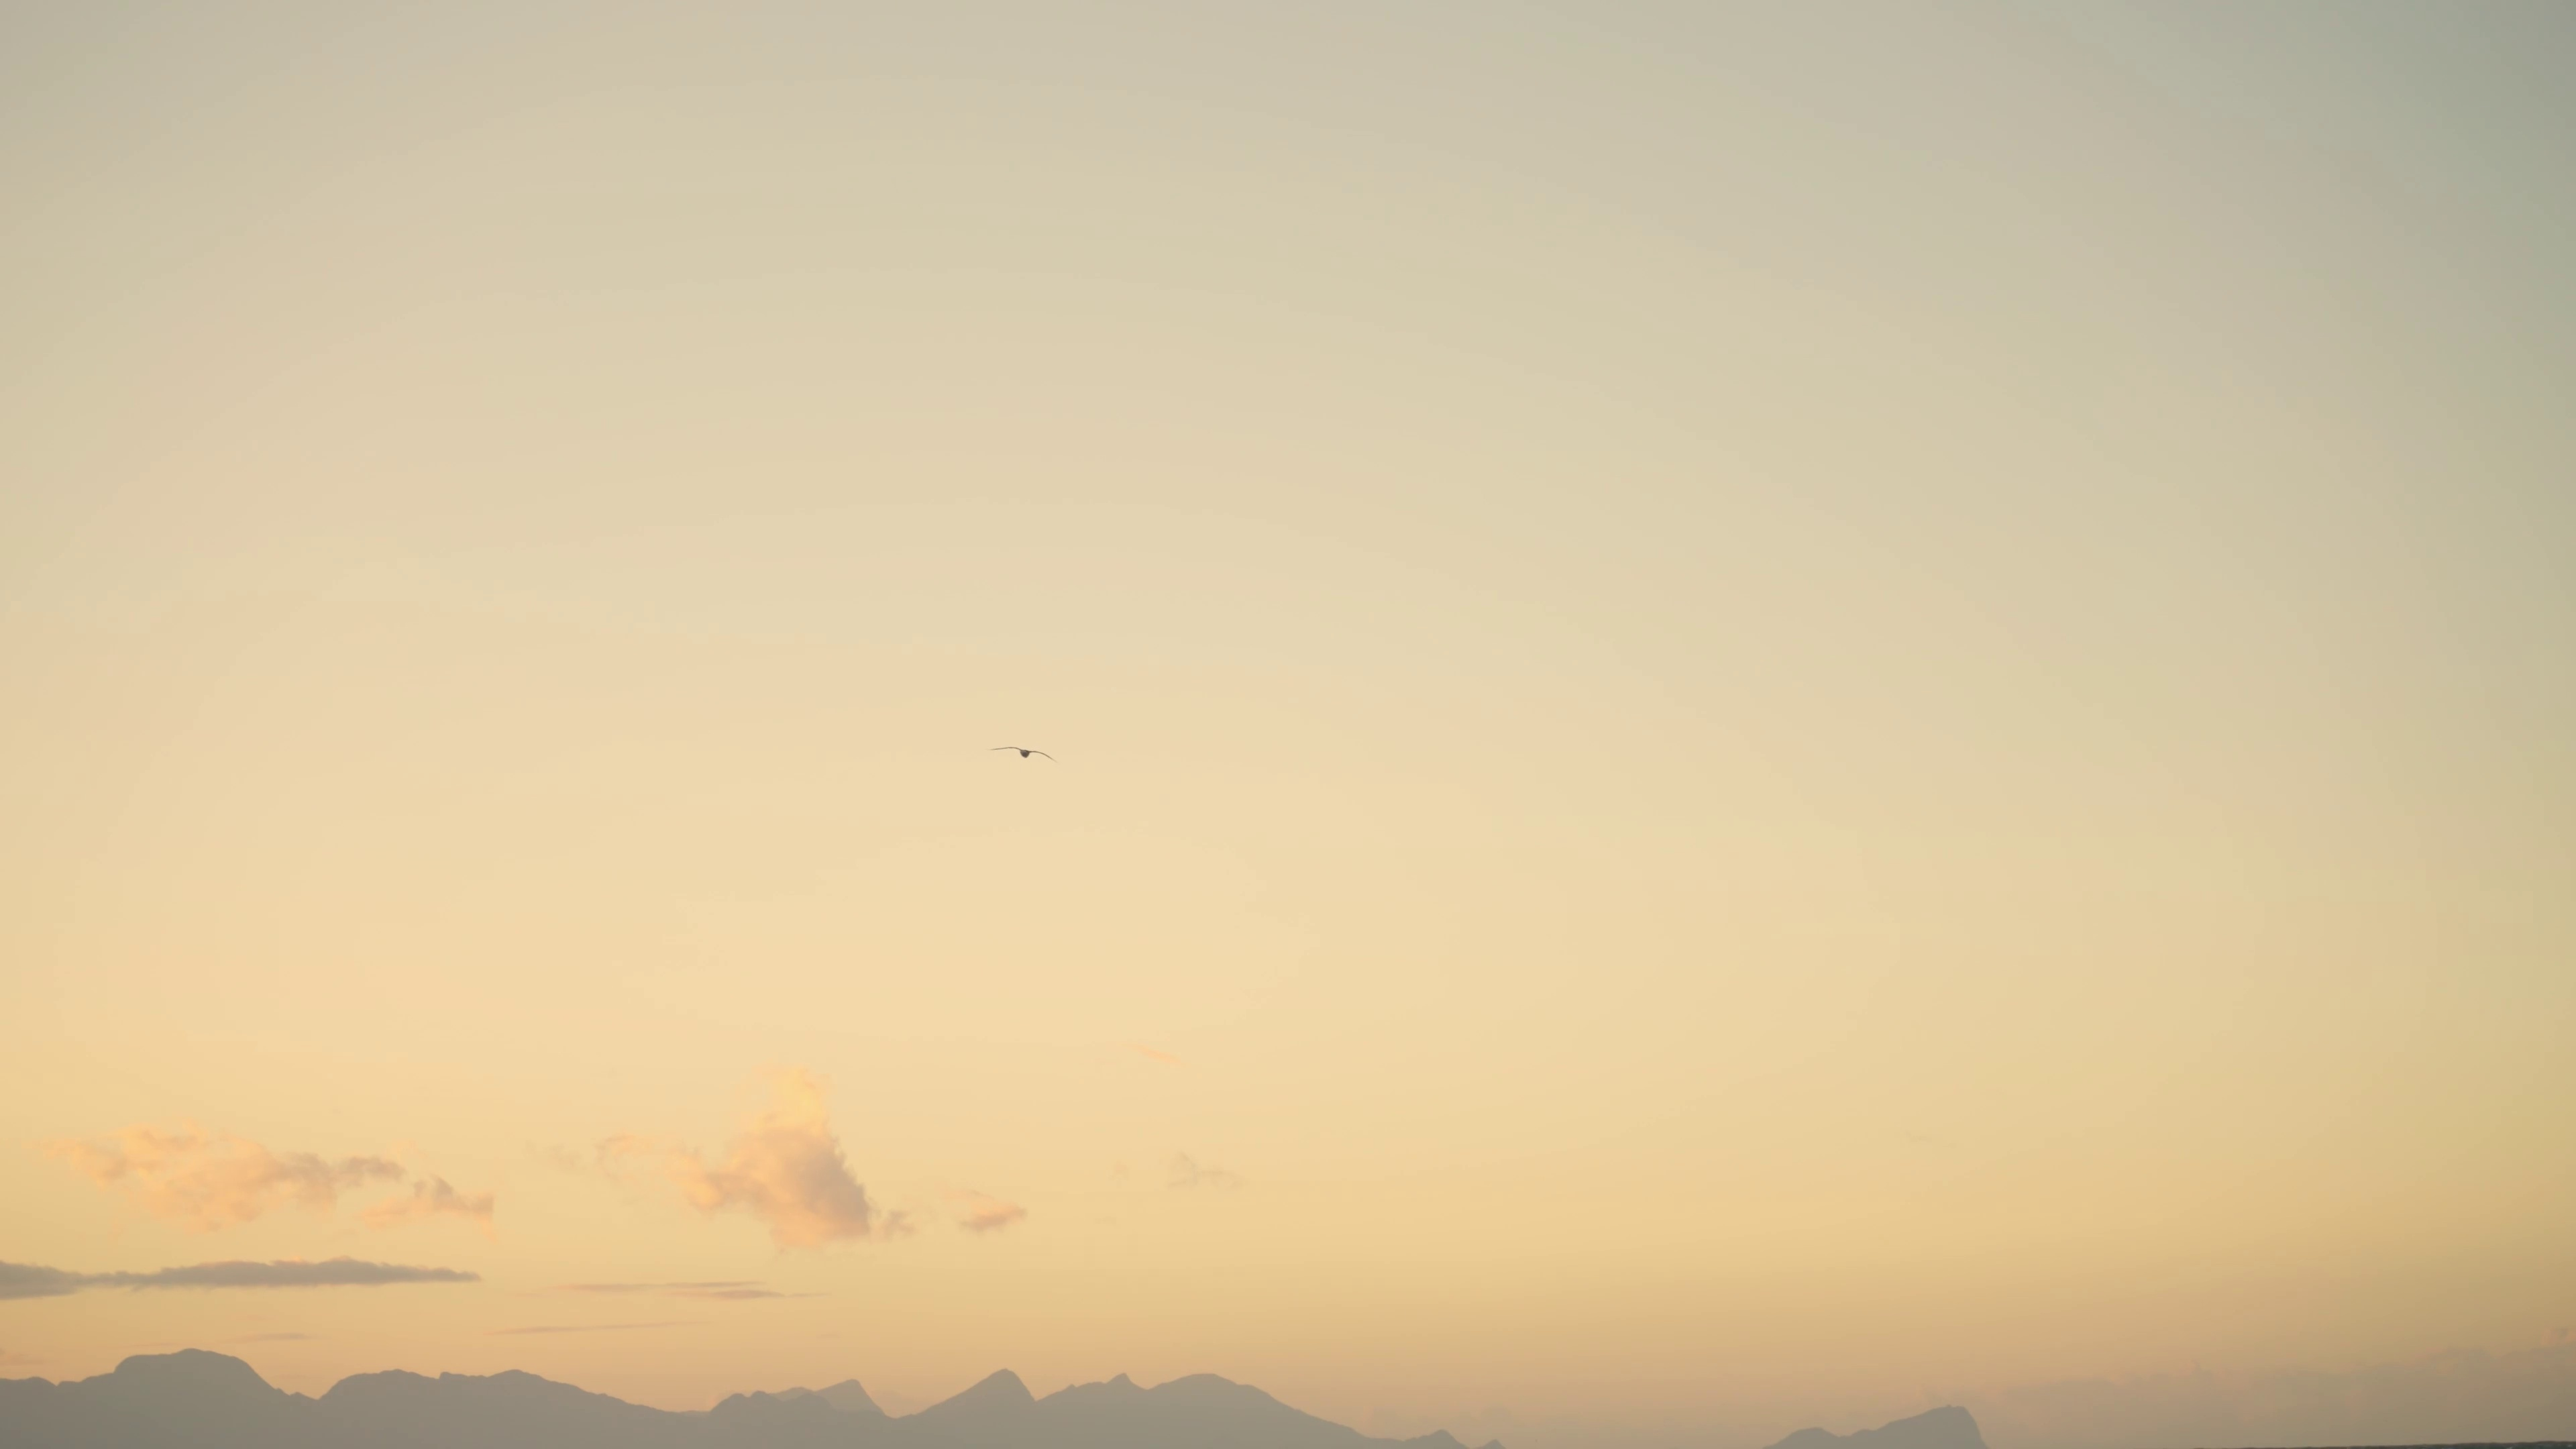bird: (991, 747, 1056, 763)
